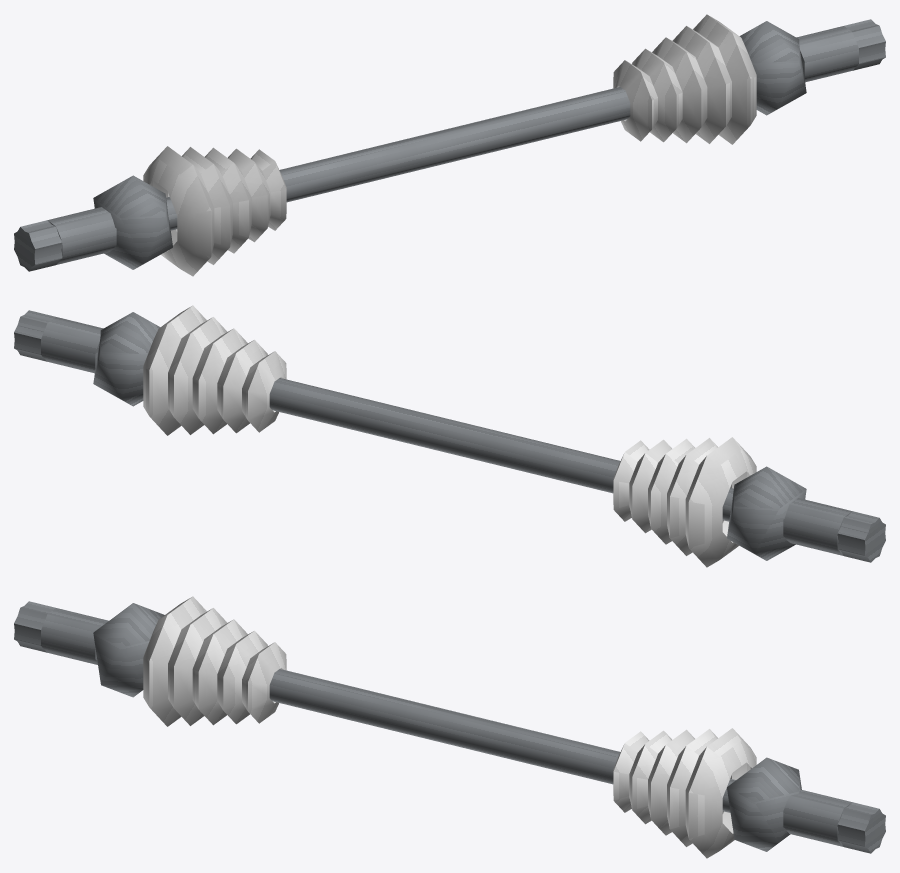
The model's file is semieixos_n1.glb.
3 views of the same model, one above another, from view 1: azimuth 30°, elevation 25°; view 2: azimuth 150°, elevation 25°; view 3: azimuth 330°, elevation 25° (orthographic).
Visible parts, largest first — view 1: semieixos_n1; view 2: semieixos_n1; view 3: semieixos_n1.
Boxes of the visible parts, bbox=[...] form: semieixos_n1: bbox=[14, 14, 885, 276]; semieixos_n1: bbox=[14, 305, 885, 567]; semieixos_n1: bbox=[14, 596, 885, 858].
Size of the model in its own units: 0.94 by 0.1183 by 0.1183.
Materials: 2 (2 with a texture image).
